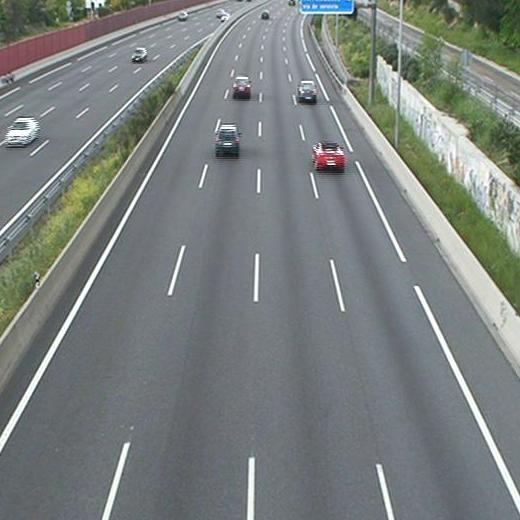car: (311, 140, 345, 173), (214, 124, 240, 159), (296, 81, 318, 104), (232, 76, 252, 100)
